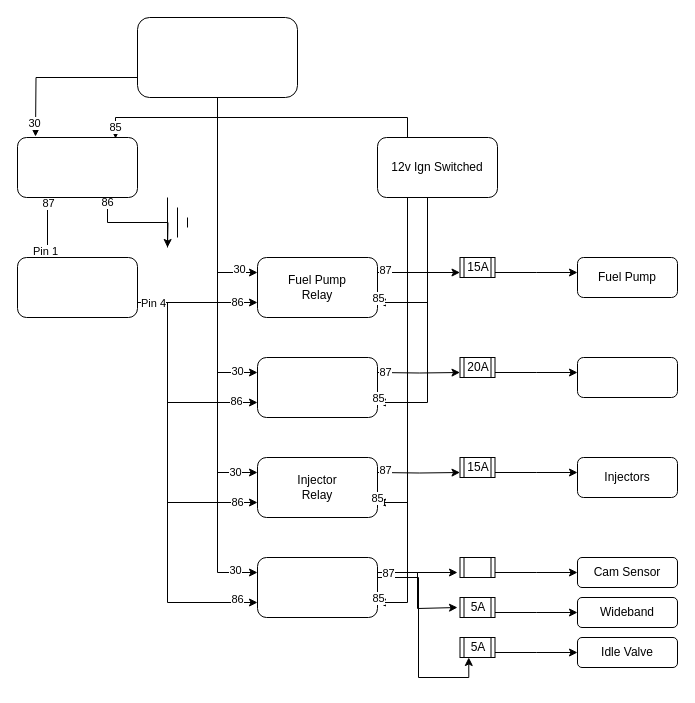
This 695x703 diagram has some shape labels left out. The box of each missing label's shape, as (x1, y1, x2, y2) in pixels:
3A: (459, 556, 495, 578)
Battery: (136, 16, 298, 98)
Cam/Idle/Wideband Relay: (256, 556, 378, 618)
ECU: (16, 256, 138, 318)
ECU Relay: (16, 136, 138, 198)
Ignition: (576, 356, 678, 398)
Ignition Relay: (256, 356, 378, 418)
